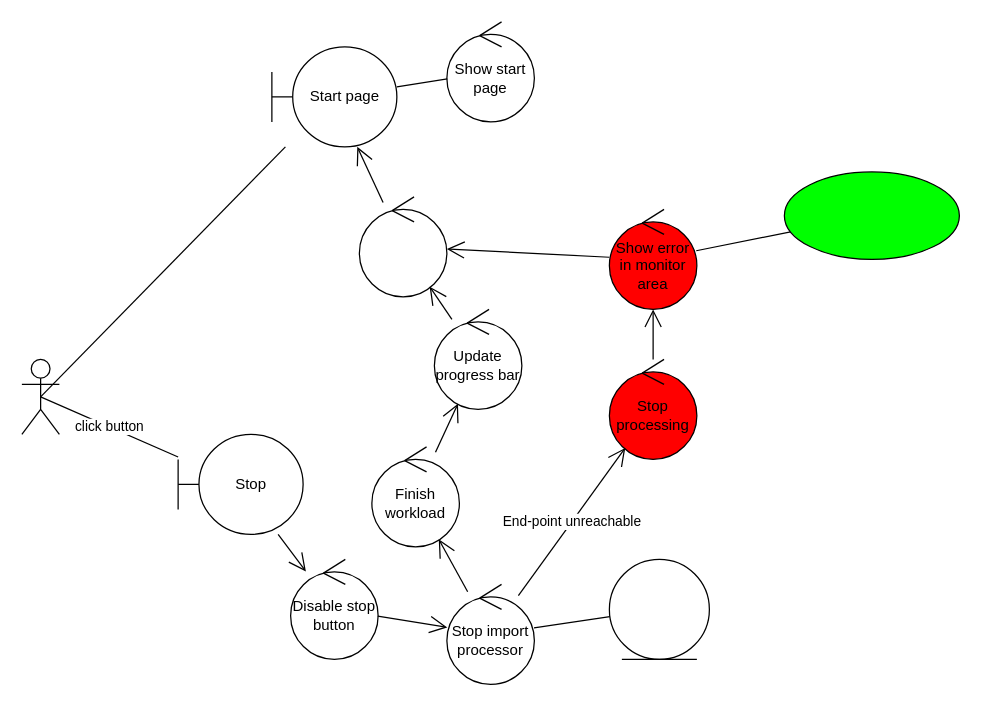
The diagram is 981 pixels wide and 706 high, and some of its shapes have lost their labels. The shapes that lost their labels are listed below. From the top down, each one's centre as x and y in pixels, then its label:
pixel 871 215: Messaging
pixel 402 246: Enable execute button
pixel 40 396: User
pixel 658 608: Processor
